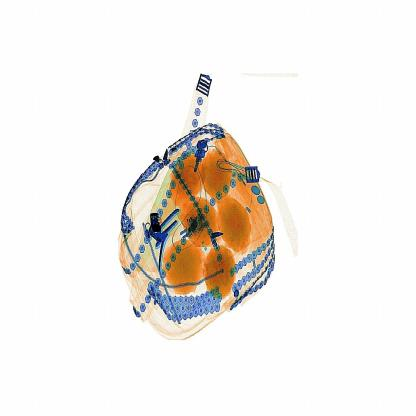pliers: (149, 205, 167, 243)
